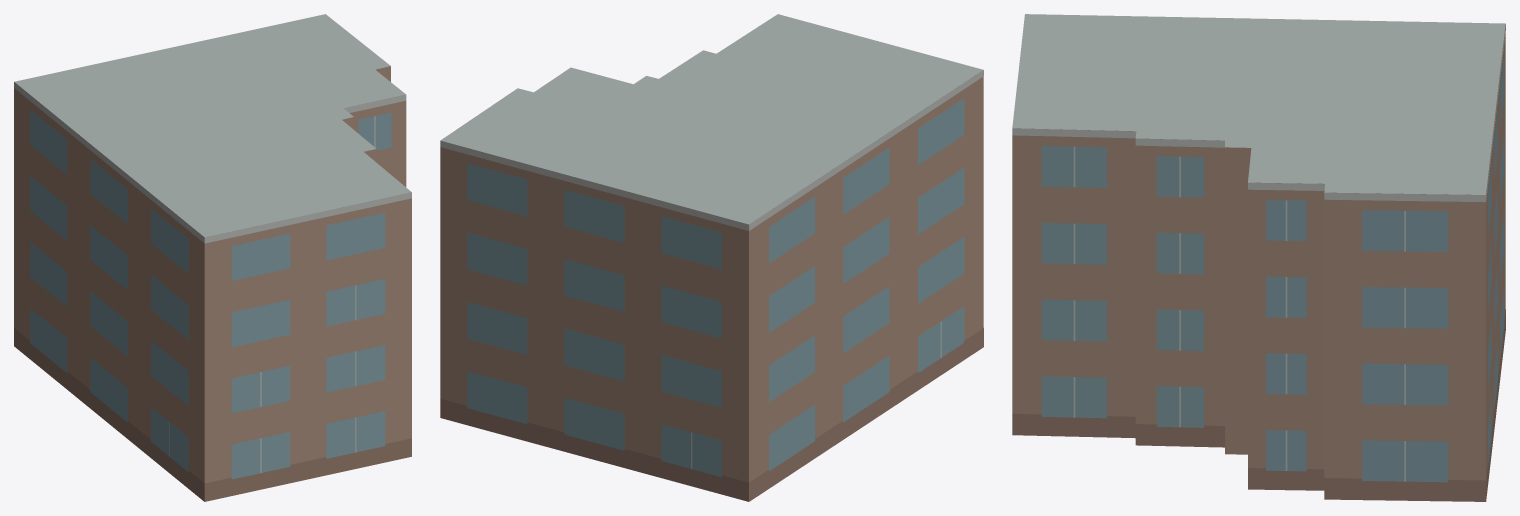
File: survey-upis-32681298.glb
3 views of the same model, side by side, from view 1: azimuth 30°, elevation 25°; view 2: azimuth 150°, elevation 25°; view 3: azimuth 270°, elevation 25° (orthographic). The views are drawn at different scales.
Parts seen in each view (by area): view 1: survey-upis-32681298.tmp; view 2: survey-upis-32681298.tmp; view 3: survey-upis-32681298.tmp.
Boxes of the visible parts, x1,y1,x2,y2 form: survey-upis-32681298.tmp: (14, 14, 411, 501); survey-upis-32681298.tmp: (440, 14, 983, 501); survey-upis-32681298.tmp: (1012, 14, 1505, 501).
Size of the model in its own units: 13.23 by 10.45 by 15.24.
